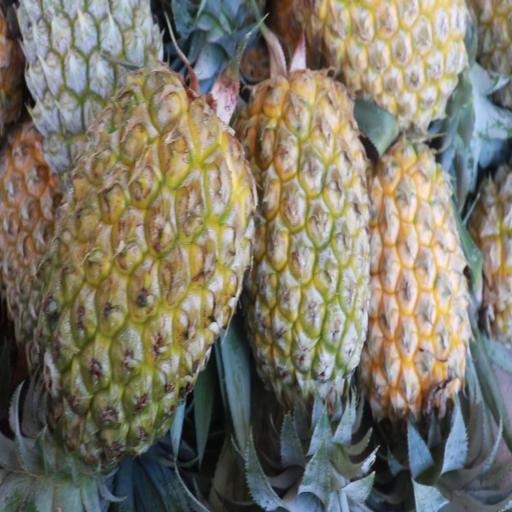Pineapple - v8 v1: (44, 97, 250, 458), (243, 79, 367, 391), (362, 142, 469, 410), (300, 0, 464, 124)
